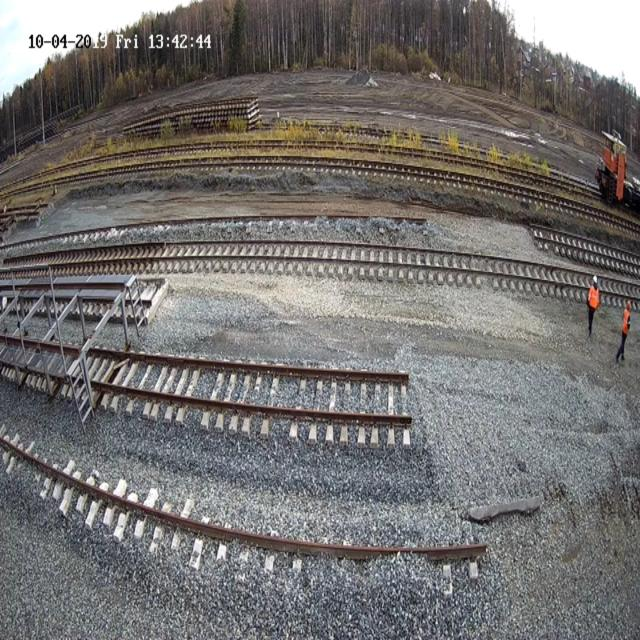Helmet: (592, 275, 597, 284)
Person: (615, 300, 631, 363), (586, 274, 600, 338)
